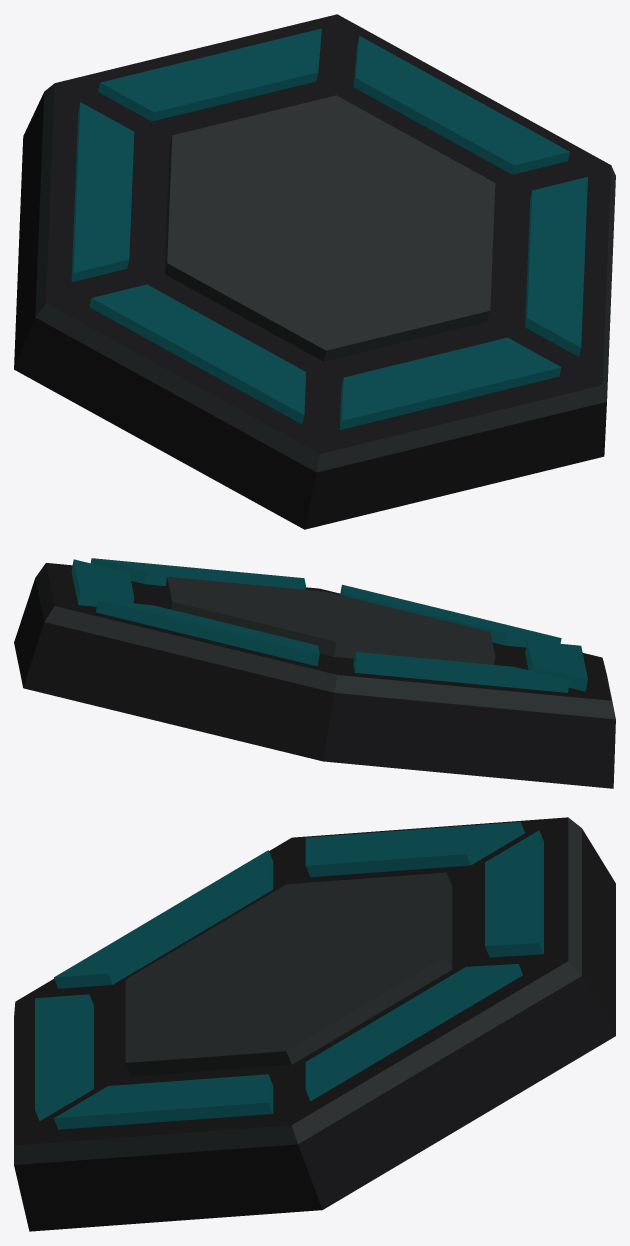
File: MANA_Button.glb
The picture shows the model from 3 angles, top to bottom: view 1: azimuth 30°, elevation 25°; view 2: azimuth 150°, elevation 25°; view 3: azimuth 270°, elevation 25°; orthographic projection. The views are drawn at different scales.
Visible parts, largest first — view 1: MANA_Button; view 2: MANA_Button; view 3: MANA_Button.
Part boxes in pixels (left/top/right/bottom): MANA_Button: left=14, top=14, right=615, bottom=529; MANA_Button: left=14, top=558, right=615, bottom=788; MANA_Button: left=14, top=817, right=615, bottom=1231.
Size of what is drawn, in the model's own units: 0.2982 by 0.1228 by 0.2487.
2 materials, 2 textured.
